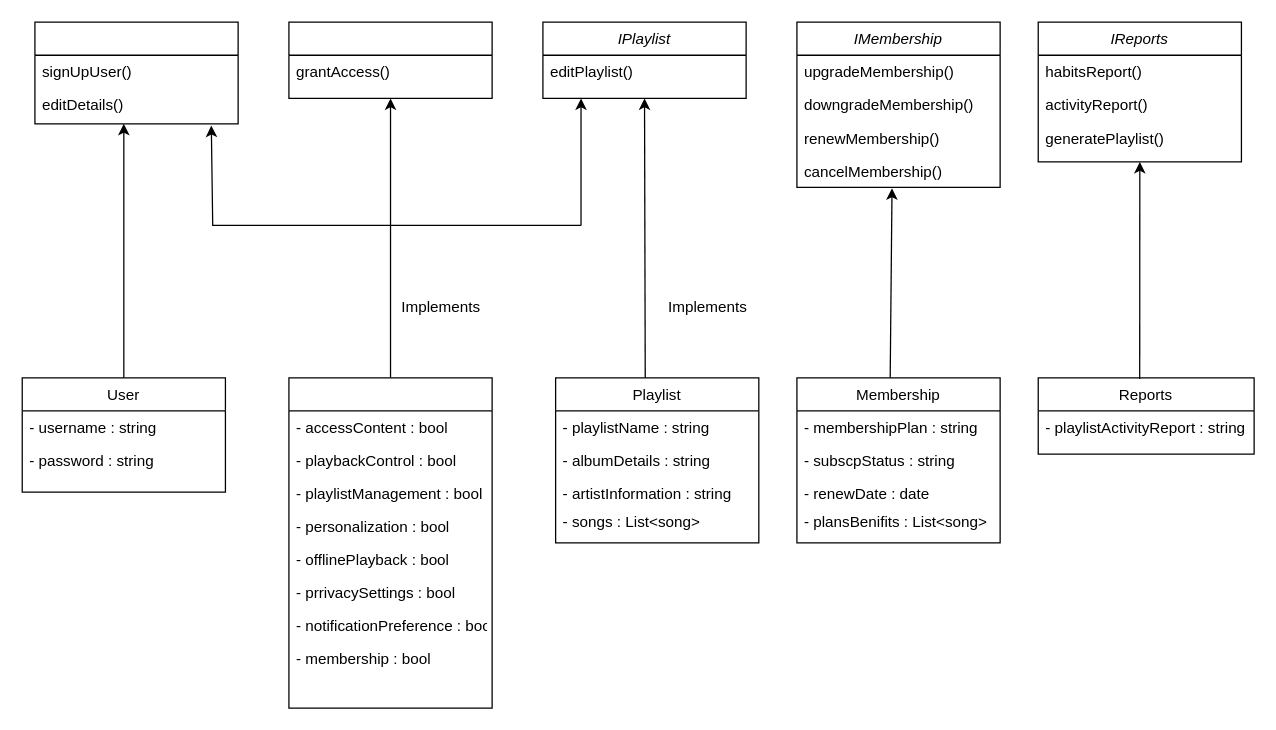
Some shapes in this 1276 by 730 pixel diagram are drawn without their labels. Here are the shapes that lost their labels. From the top down, the box of each, then its label:
(34, 21, 238, 124): IUser
(288, 21, 492, 98): IPermission
(288, 377, 492, 708): Permission
